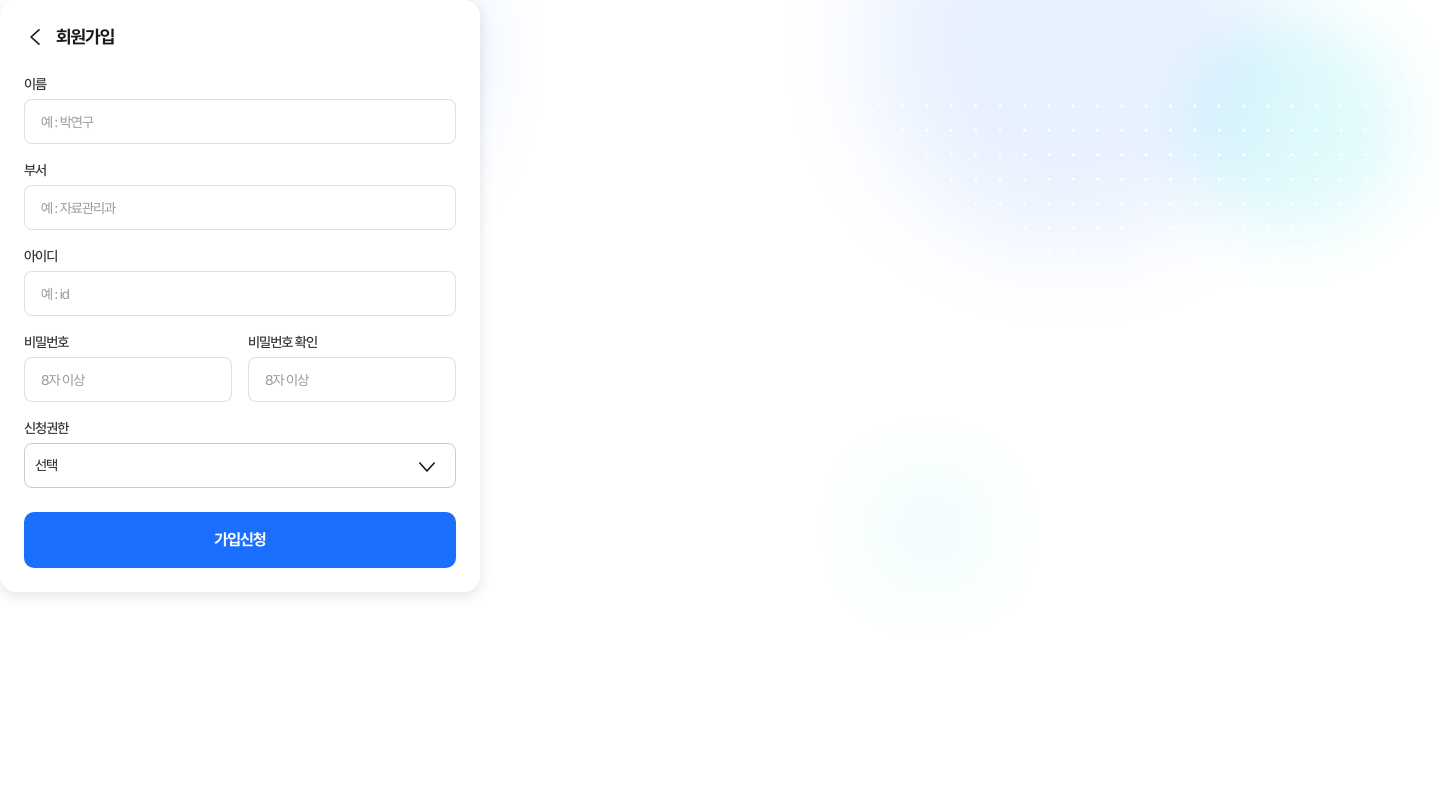
join: 클라 검증(round06d가 미룬 5가지 중 형태 검증 4가지) › 비밀번호와 확인이 다르면 에러를 보여준다
Type "박연구" into the field labelled "이름".
click(240, 122); type("박연구")  # box [24,99,456,144]
Type "자료관리과" into the field labelled "부서".
click(240, 208); type("자료관리과")  # box [24,185,456,230]
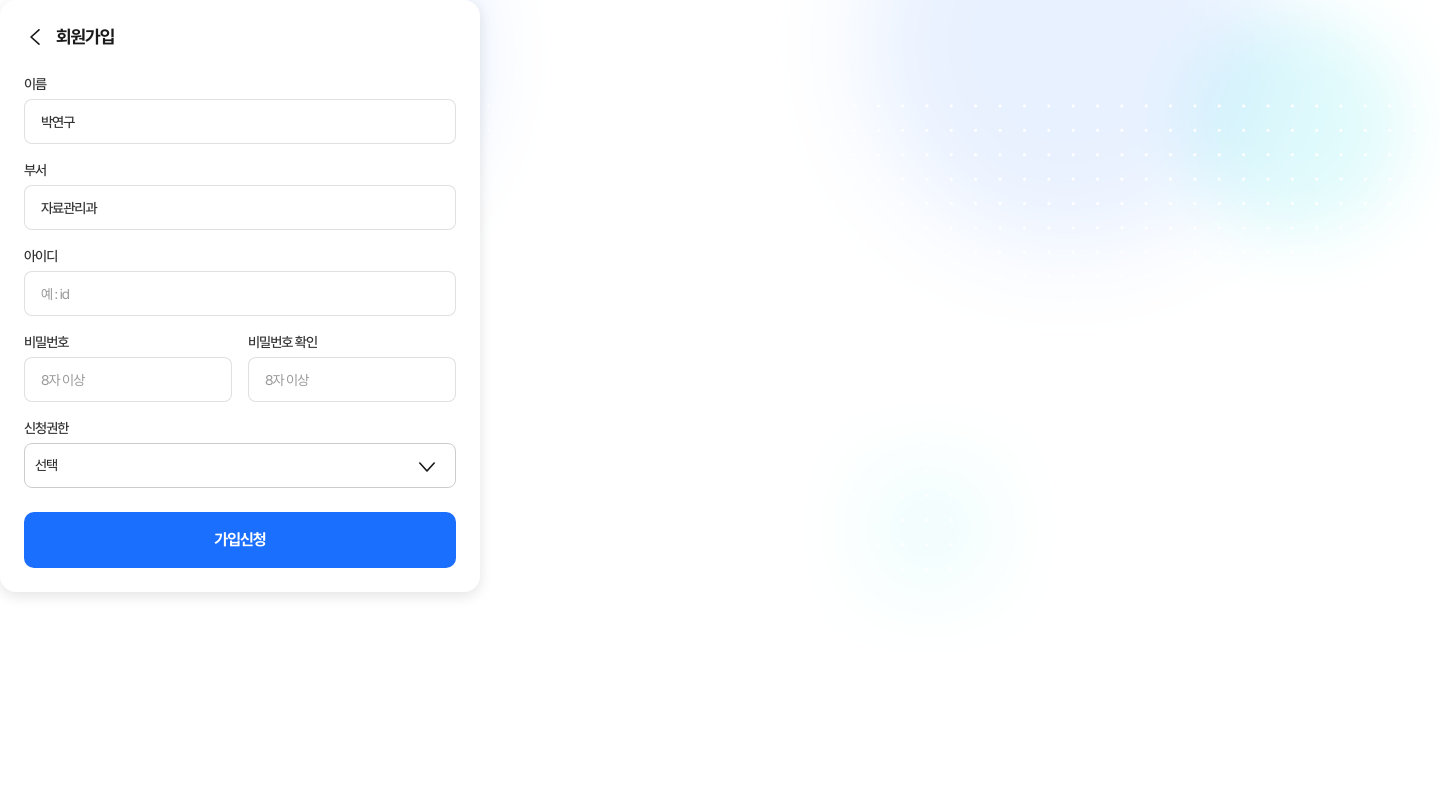
Type "kim01" into the field labelled "아이디".
click(240, 294); type("kim01")  # box [24,271,456,316]
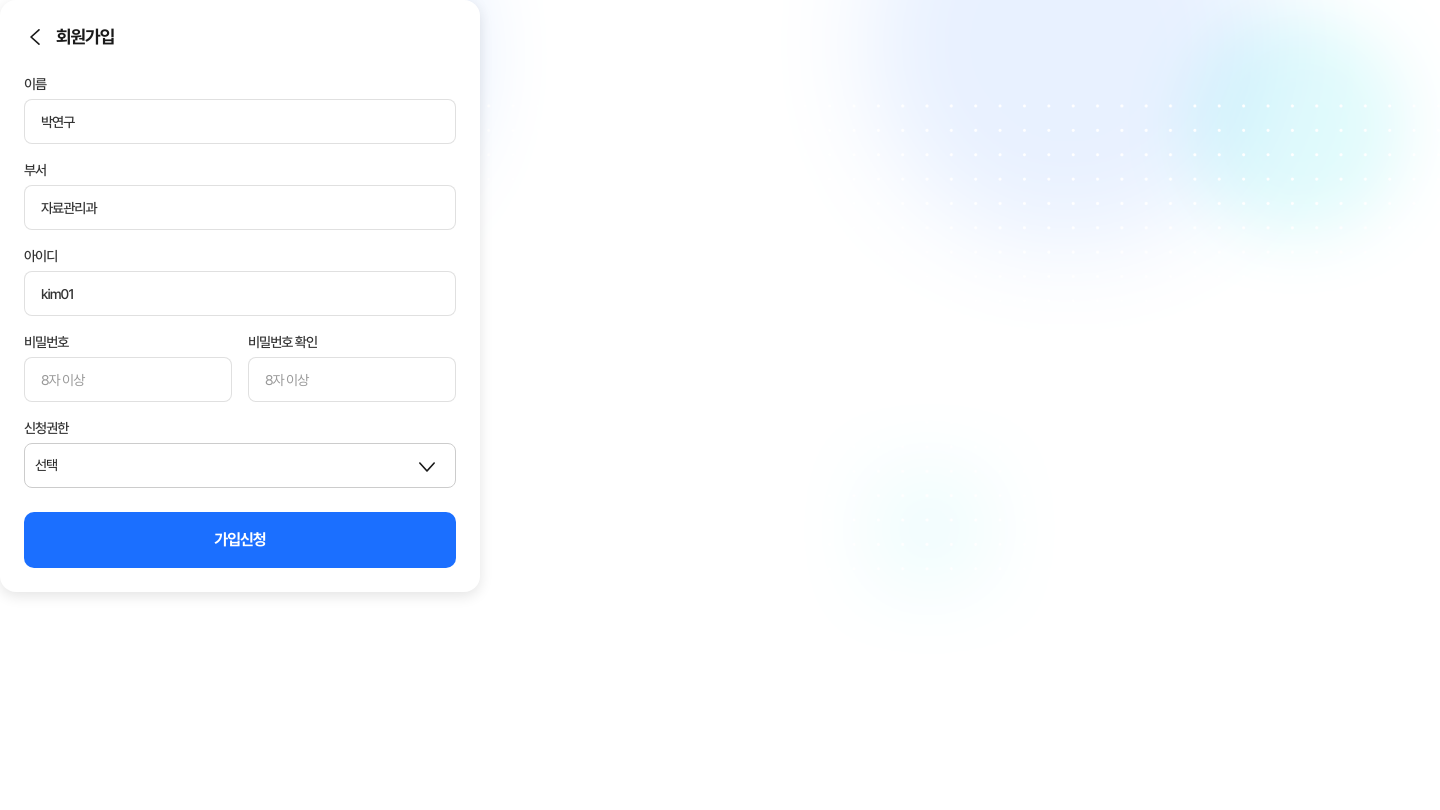
Type "password1" into the password field labelled "비밀번호".
click(128, 380); type("password1")  # box [24,357,232,402]
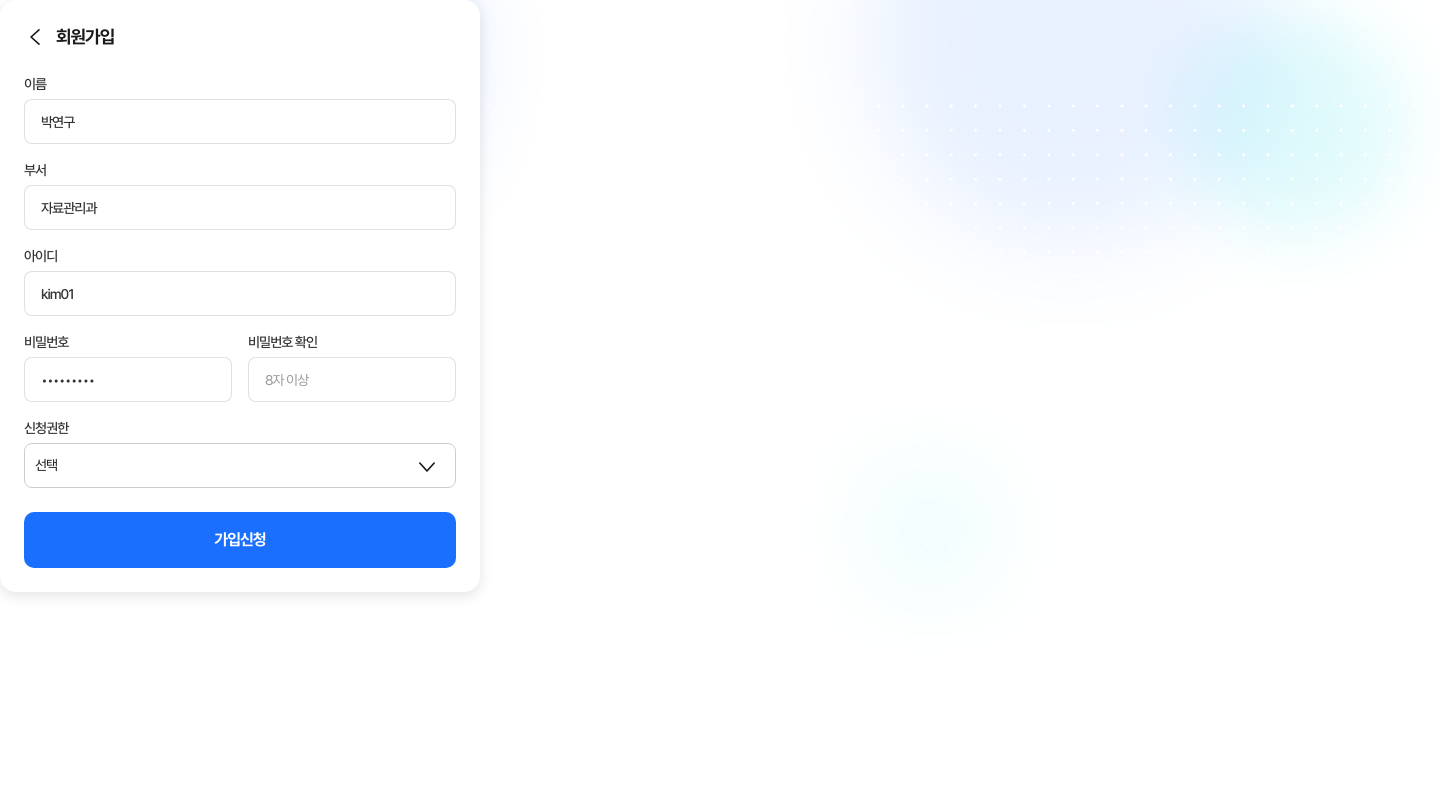
Type "different1" into the password field labelled "비밀번호 확인".
click(352, 380); type("different1")  # box [248,357,456,402]
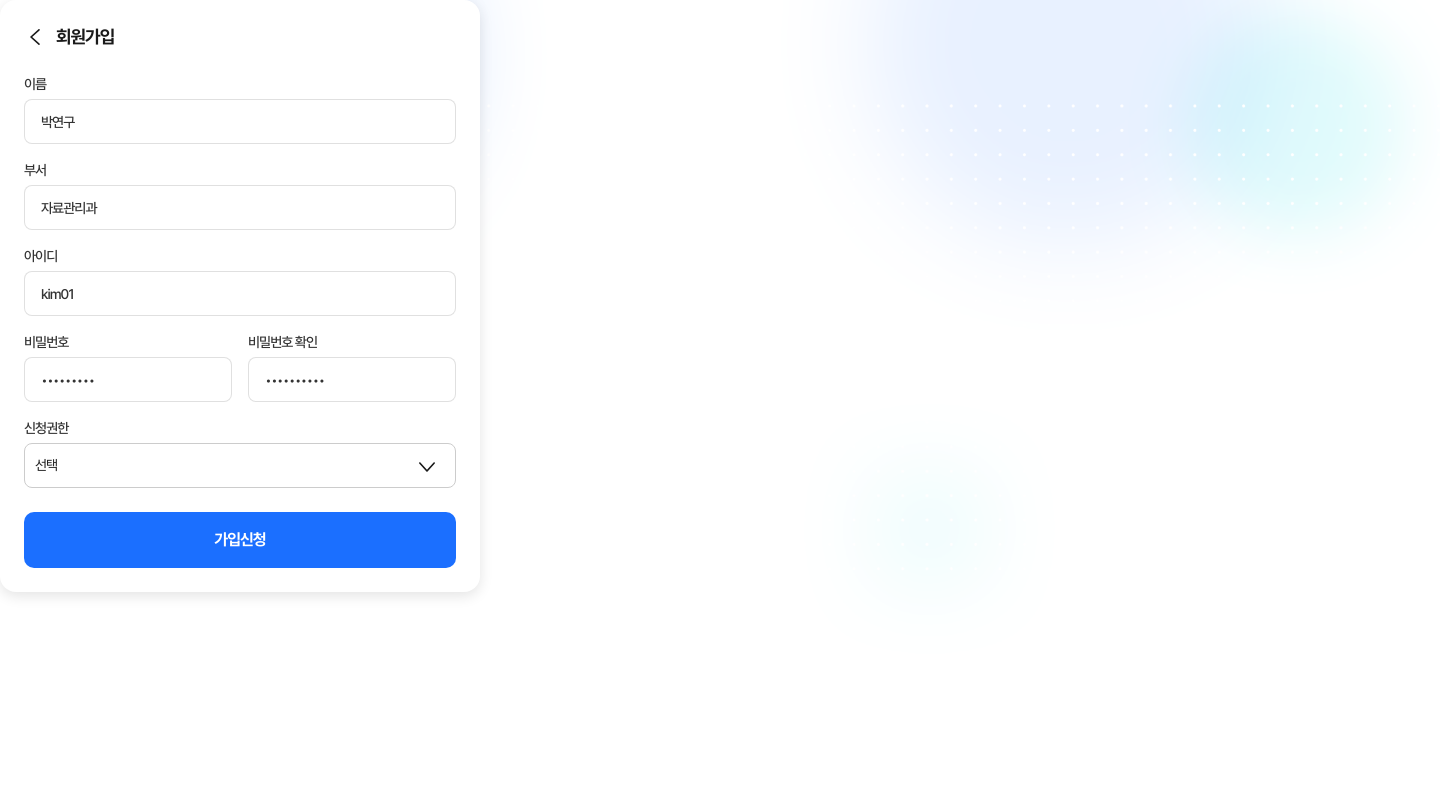
Select "사용자" in the dropdown labelled "신청권한" at (240, 466), box [24,443,456,488]
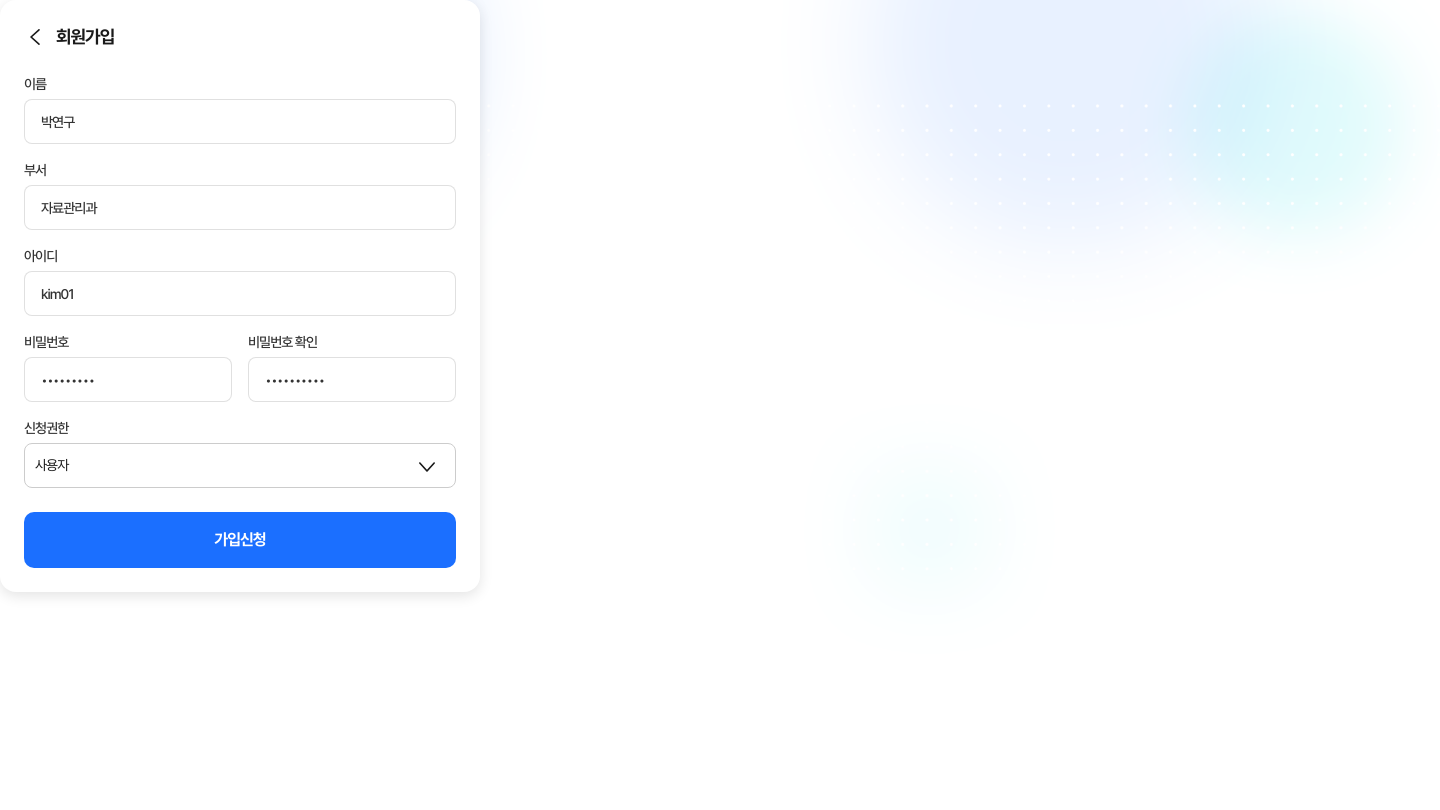
Click the button "가입신청".
click(240, 540)  # box [24,512,456,568]
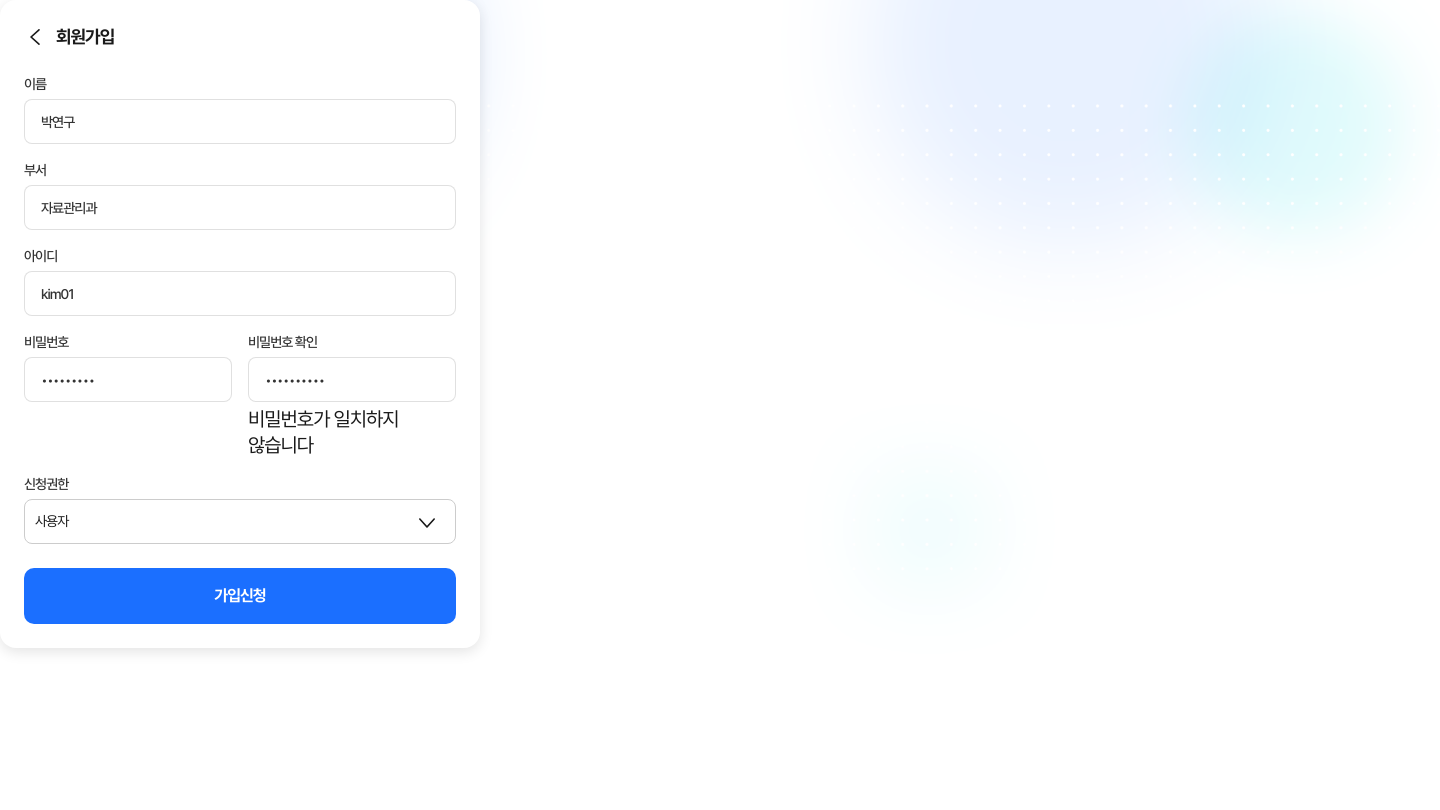
Expected: the text "비밀번호가 일치하지 않습니다" is shown, [248,407,399,457]
